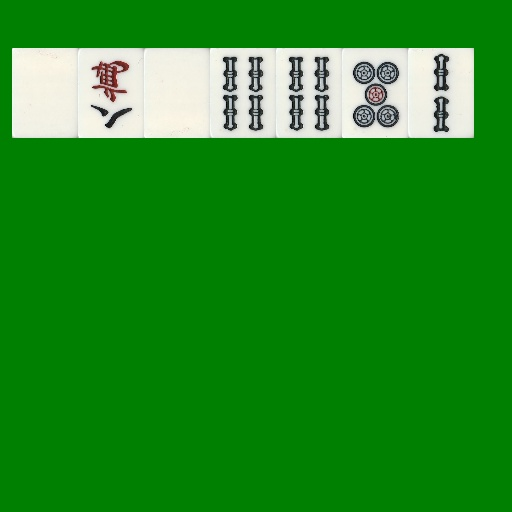2s: (408, 48, 474, 138)
4s: (210, 48, 276, 138), (276, 48, 342, 138)
5p: (342, 48, 408, 138)
8m: (78, 48, 144, 138)
white: (12, 48, 78, 138), (144, 48, 210, 138)
